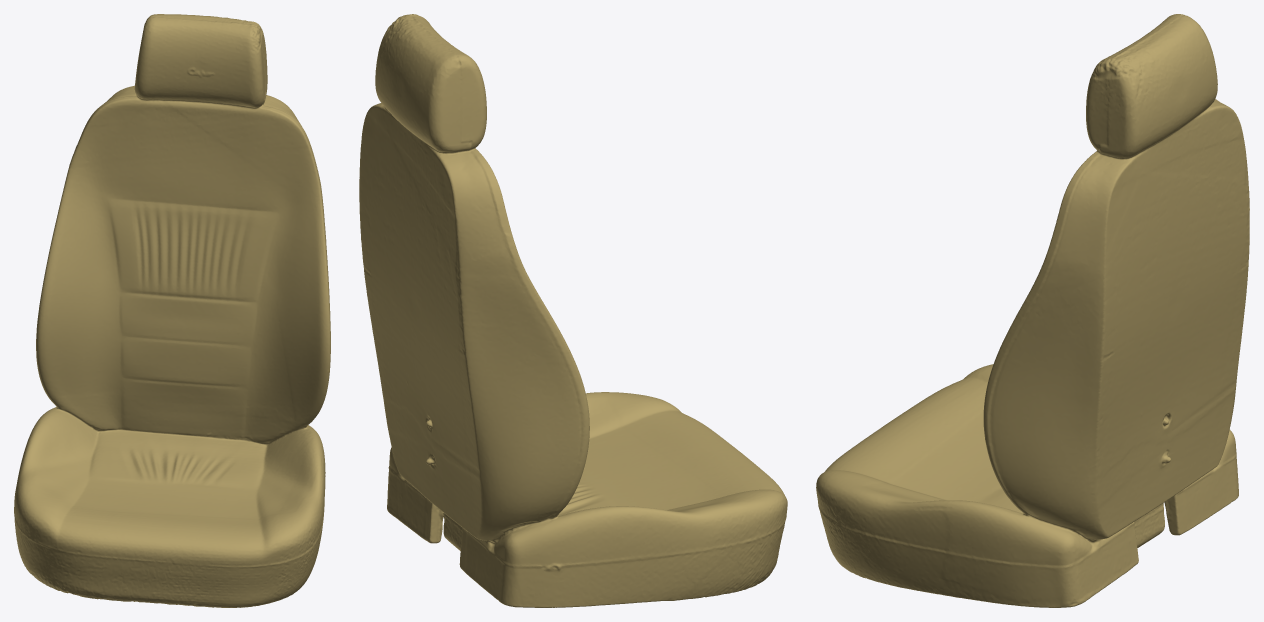
Rendered from seat.glb.
3 views of the same model, side by side, from view 1: azimuth 30°, elevation 25°; view 2: azimuth 150°, elevation 25°; view 3: azimuth 270°, elevation 25° (orthographic). The views are drawn at different scales.
Parts seen in each view (by area): view 1: Object_2, Object_4, Object_3, Object_5, Object_6; view 2: Object_3, Object_5, Object_2, Object_4, Object_6; view 3: Object_2, Object_3, Object_5, Object_6, Object_4.
Boxes of the visible parts, bbox=[...] form: Object_2: bbox=[19, 14, 330, 603]; Object_4: bbox=[14, 16, 330, 607]; Object_3: bbox=[14, 110, 330, 606]; Object_5: bbox=[14, 17, 324, 607]; Object_6: bbox=[15, 14, 330, 607]; Object_3: bbox=[371, 182, 786, 606]; Object_5: bbox=[366, 16, 786, 607]; Object_2: bbox=[359, 14, 778, 607]; Object_4: bbox=[384, 35, 787, 599]; Object_6: bbox=[359, 15, 785, 607]; Object_2: bbox=[816, 14, 1249, 607]; Object_3: bbox=[818, 134, 1249, 603]; Object_5: bbox=[818, 49, 1249, 607]; Object_6: bbox=[818, 15, 1249, 607]; Object_4: bbox=[869, 46, 1208, 607].
Bounding box in the file's own units: 73.65 × 104 × 73.5.
